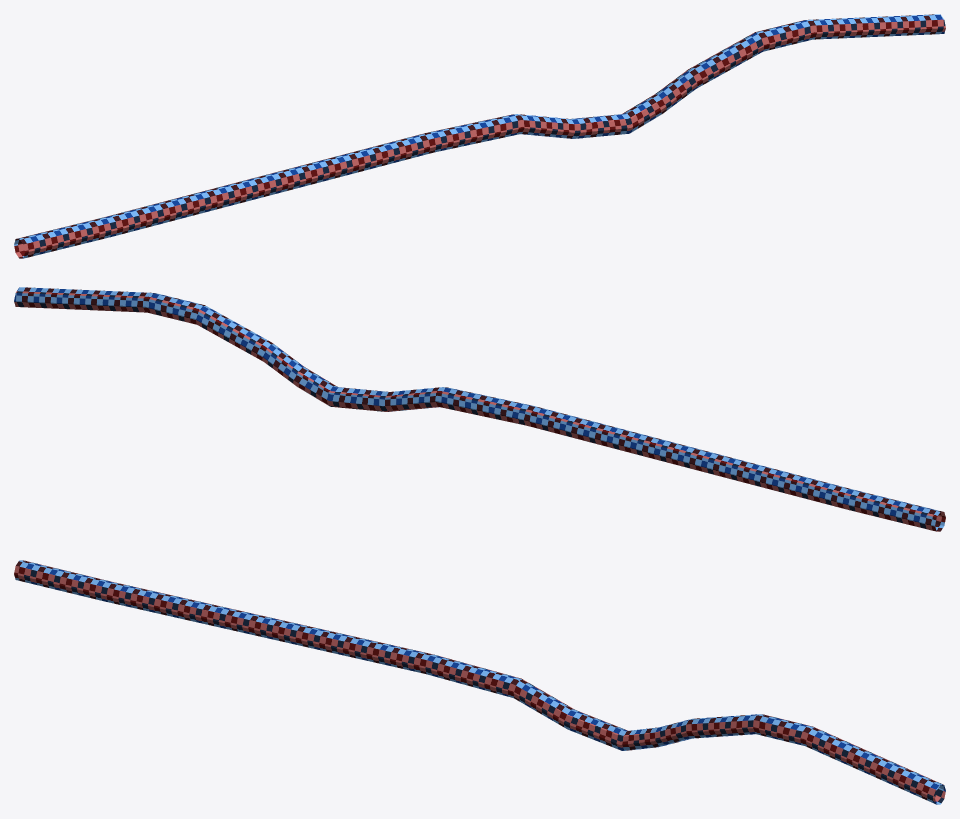
The model's file is Wire_large_03.fbx.
3 renders of one model, top to bottom at view 1: azimuth 30°, elevation 25°; view 2: azimuth 150°, elevation 25°; view 3: azimuth 330°, elevation 25°, orthographic.
Visible parts, largest first — view 1: wire_large_03; view 2: wire_large_03; view 3: wire_large_03.
Part boxes in pixels (bbox=[...]): wire_large_03: bbox=[14, 14, 945, 258]; wire_large_03: bbox=[14, 287, 945, 531]; wire_large_03: bbox=[14, 560, 945, 804].
Size of the model in its own units: 500 by 35.91 by 10.27.
1 material, 1 textured.
